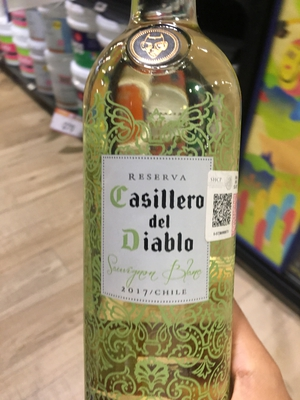casillero del diablo sauvignon blanc: (79, 1, 242, 400)
